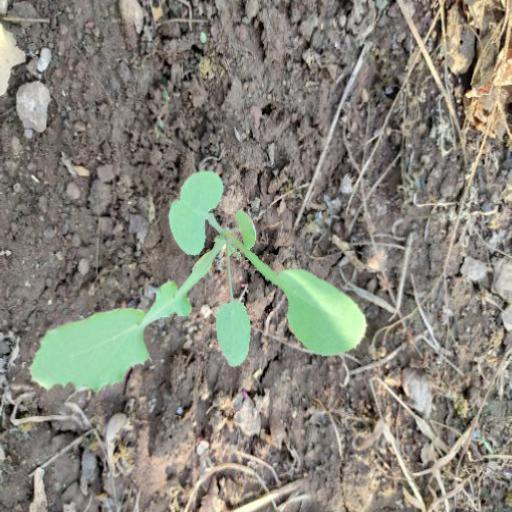weed: (24, 168, 375, 429)
